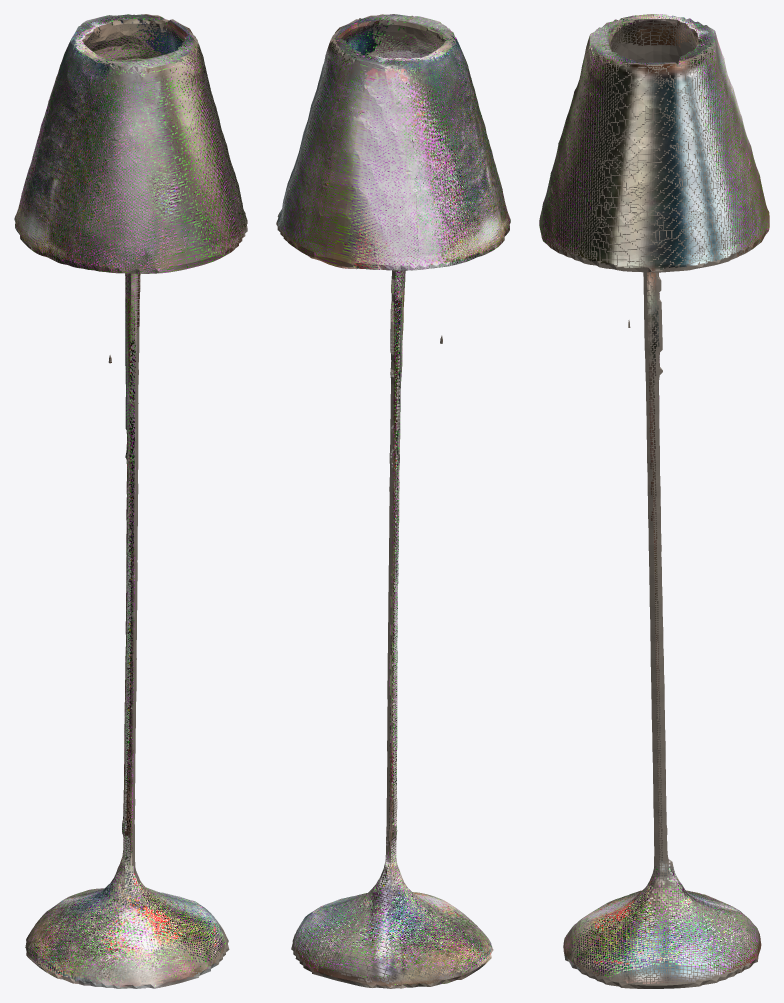
File: txt.glb
The picture shows the model from 3 angles, left to right: view 1: azimuth 30°, elevation 25°; view 2: azimuth 150°, elevation 25°; view 3: azimuth 270°, elevation 25°; orthographic projection.
Visible parts, largest first — view 1: mesh.001; view 2: mesh.001; view 3: mesh.001.
Part boxes in pixels (bbox=[...]): mesh.001: bbox=[14, 14, 247, 988]; mesh.001: bbox=[276, 14, 510, 988]; mesh.001: bbox=[539, 14, 769, 988].
Bounding box in the file's own units: 0.4558 × 1.96 × 0.4483.
1 material, 1 textured.
